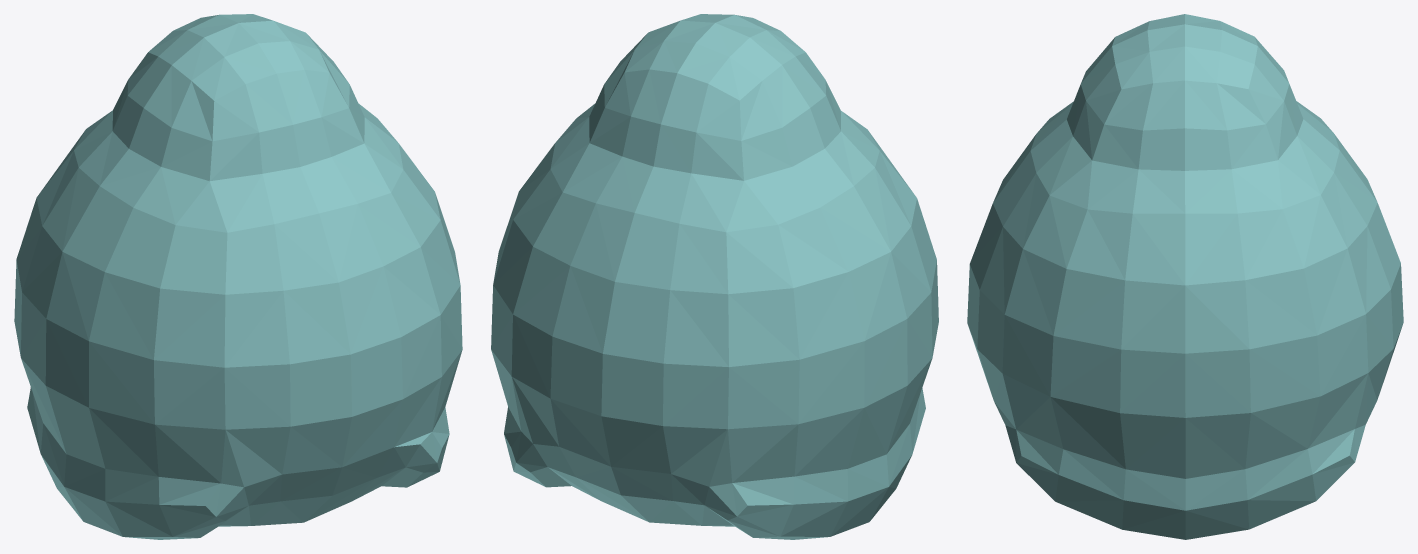
3 views of the same model, side by side, from view 1: azimuth 30°, elevation 25°; view 2: azimuth 150°, elevation 25°; view 3: azimuth 270°, elevation 25° (orthographic). The views are drawn at different scales.
Visible parts, largest first — view 1: Object_3.002; view 2: Object_3.002; view 3: Object_3.002.
Part boxes in pixels (box(x1,y1,x2,y2)): Object_3.002: box(14, 14, 462, 539); Object_3.002: box(491, 14, 938, 539); Object_3.002: box(967, 14, 1403, 539).
Bounding box in the file's own units: 5.01 × 6.02 × 5.11.
